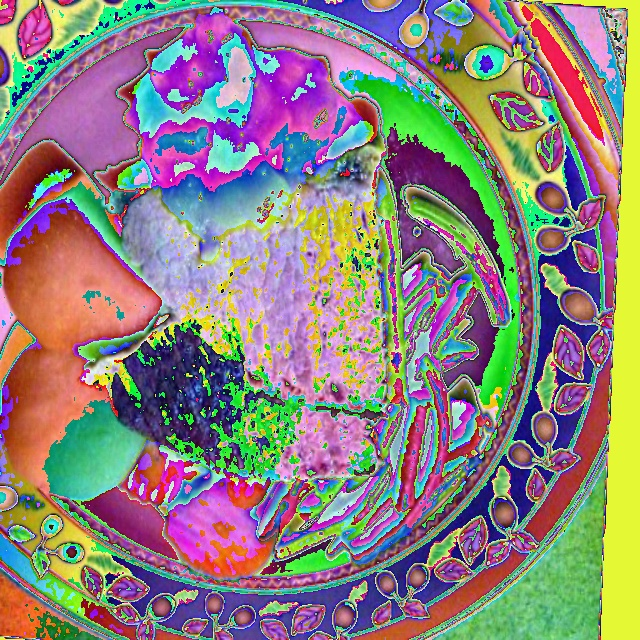background: (0, 9, 512, 583)
